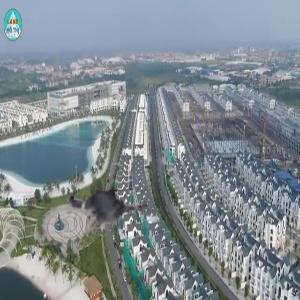drone: (52, 152, 157, 257)
